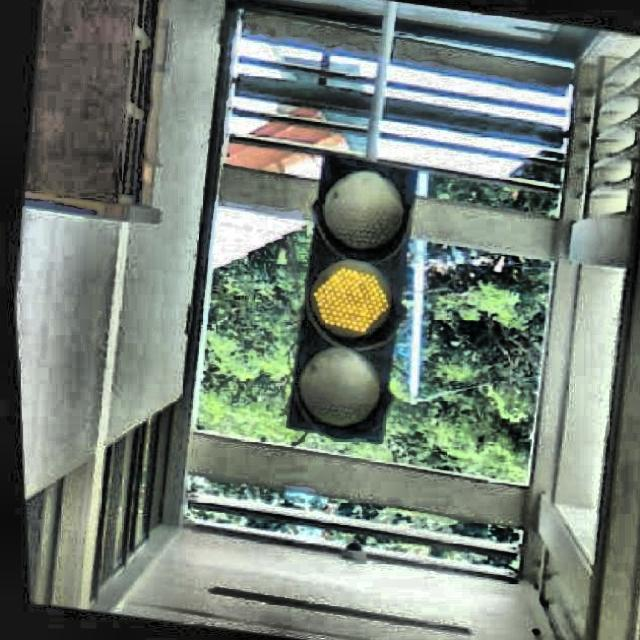yellow: (271, 155, 419, 439)
